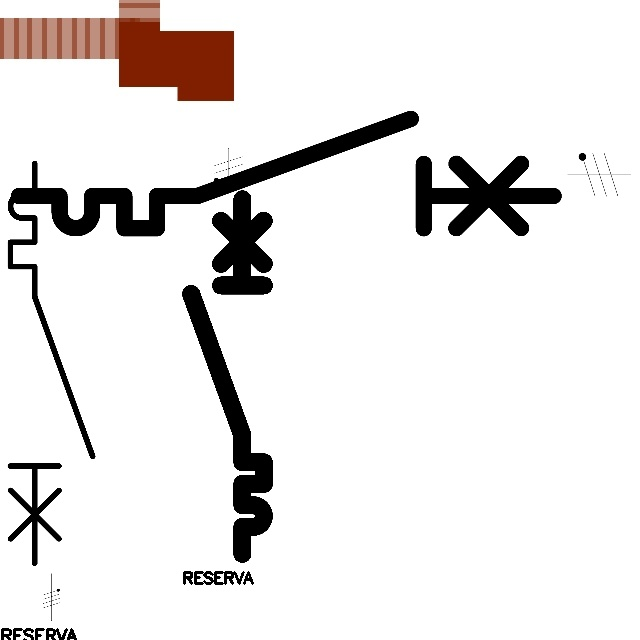interruptor_termomagnetico: (5, 105, 567, 242), (0, 153, 103, 574), (182, 190, 273, 563)
